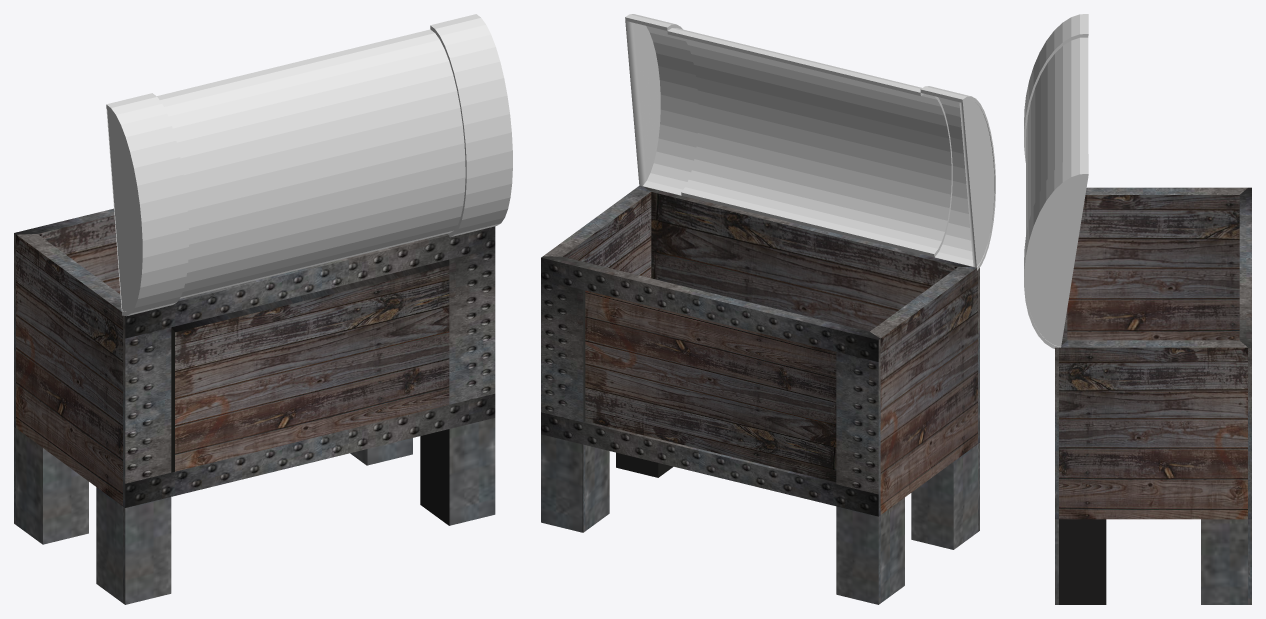
The model's file is ScrignoV3.1.fbx.
3 views of the same model, side by side, from view 1: azimuth 30°, elevation 25°; view 2: azimuth 150°, elevation 25°; view 3: azimuth 270°, elevation 25° (orthographic). The views are drawn at different scales.
Visible parts, largest first — view 1: Base, Coperchio; view 2: Base, Coperchio; view 3: Base, Coperchio.
Part boxes in pixels (x1=…): Base: x1=14, y1=208, x2=495, y2=604; Coperchio: x1=106, y1=14, x2=512, y2=316; Base: x1=541, y1=186, x2=979, y2=604; Coperchio: x1=625, y1=14, x2=995, y2=270; Base: x1=1055, y1=187, x2=1251, y2=604; Coperchio: x1=1024, y1=14, x2=1088, y2=348.
Size of the model in its own units: 200 by 251 by 120.
